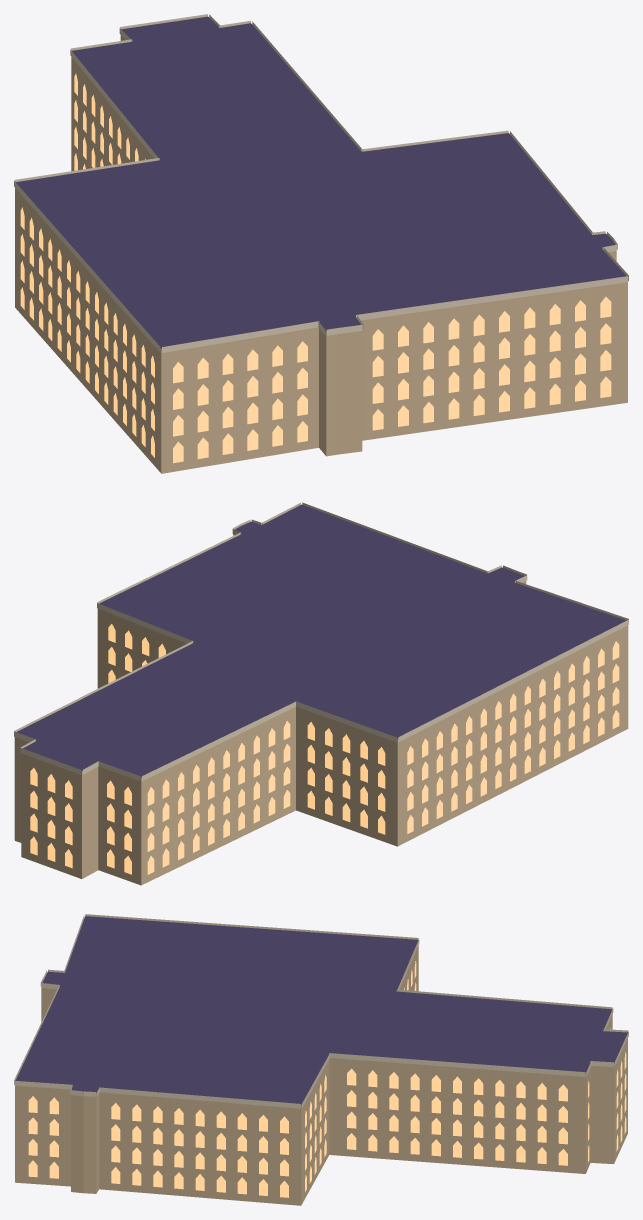
The model's file is core-talbot-college.glb.
3 renders of one model, top to bottom at view 1: azimuth 30°, elevation 25°; view 2: azimuth 150°, elevation 25°; view 3: azimuth 270°, elevation 25°, orthographic. The views are drawn at different scales.
Visible parts, largest first — view 1: campus/core-talbot-college-0; view 2: campus/core-talbot-college-0; view 3: campus/core-talbot-college-0.
Part boxes in pixels (x1,y1,x2,y2): campus/core-talbot-college-0: (14,14,628,473); campus/core-talbot-college-0: (14,502,628,885); campus/core-talbot-college-0: (14,914,628,1205).
Size of the model in its own units: 62.68 by 15.75 by 85.83.
